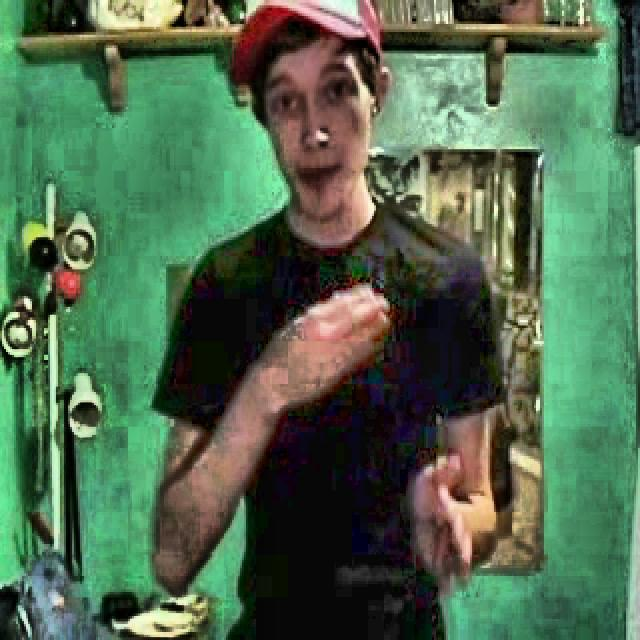F: (151, 4, 502, 635)
